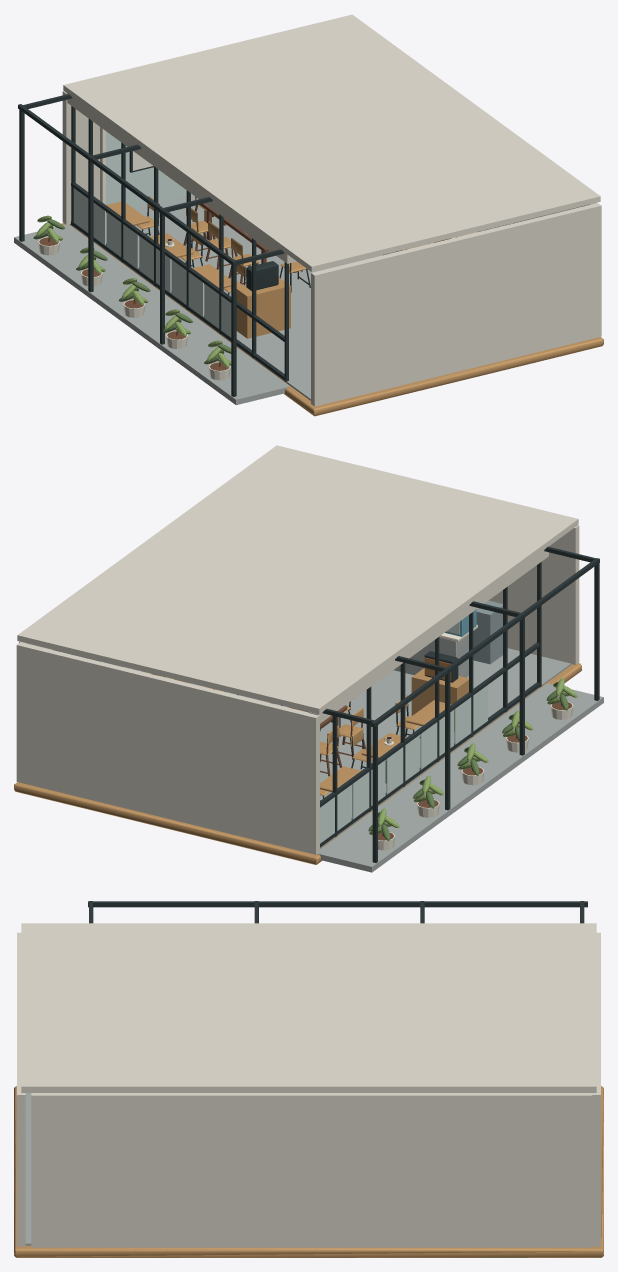
File: little-donkey.glb
The picture shows the model from 3 angles, top to bottom: view 1: azimuth 30°, elevation 25°; view 2: azimuth 150°, elevation 25°; view 3: azimuth 270°, elevation 25°; orthographic projection. The views are drawn at different scales.
Visible parts, largest first — view 1: EN_LittleDonkey_roof_Plaster_LOD0, EN_LittleDonkey_shell_Plaster_LOD0, EN_LittleDonkey_patio_Concrete_LOD0, EN_LittleDonkey_floor_Concrete_LOD0, EN_LittleDonkey_windows_Metal_LOD0, EN_LittleDonkey_patio_Metal_LOD0, EN_LittleDonkey_windows_Glass_LOD0, EN_LittleDonkey_floor_Oak_LOD0, EN_LittleDonkey_projection_Glass_LOD0, EN_LittleDonkey_windows_Plaster_LOD0, EN_LittleDonkey_main_Oak_LOD0, EN_LittleDonkey_chairs_Oak_LOD0 (+7 smaller); view 2: EN_LittleDonkey_roof_Plaster_LOD0, EN_LittleDonkey_shell_Plaster_LOD0, EN_LittleDonkey_patio_Concrete_LOD0, EN_LittleDonkey_floor_Concrete_LOD0, EN_LittleDonkey_patio_Metal_LOD0, EN_LittleDonkey_windows_Metal_LOD0, EN_LittleDonkey_windows_Glass_LOD0, EN_LittleDonkey_floor_Oak_LOD0, EN_LittleDonkey_windows_Plaster_LOD0, EN_LittleDonkey_patio_Leaf_LOD0, EN_LittleDonkey_historic_Silver_LOD0, EN_LittleDonkey_tables_Oak_LOD0 (+5 smaller); view 3: EN_LittleDonkey_roof_Plaster_LOD0, EN_LittleDonkey_shell_Plaster_LOD0, EN_LittleDonkey_floor_Oak_LOD0, EN_LittleDonkey_patio_Metal_LOD0, EN_LittleDonkey_floor_Concrete_LOD0.
Boxes of the visible parts, x1,y1,x2,y2 form: EN_LittleDonkey_roof_Plaster_LOD0: (63, 14, 600, 271); EN_LittleDonkey_shell_Plaster_LOD0: (62, 91, 601, 406); EN_LittleDonkey_patio_Concrete_LOD0: (14, 224, 290, 405); EN_LittleDonkey_floor_Concrete_LOD0: (70, 194, 433, 400); EN_LittleDonkey_windows_Metal_LOD0: (71, 106, 288, 381); EN_LittleDonkey_patio_Metal_LOD0: (18, 94, 284, 396); EN_LittleDonkey_windows_Glass_LOD0: (74, 188, 231, 337); EN_LittleDonkey_floor_Oak_LOD0: (61, 223, 603, 416); EN_LittleDonkey_projection_Glass_LOD0: (106, 131, 191, 214); EN_LittleDonkey_windows_Plaster_LOD0: (67, 93, 296, 263); EN_LittleDonkey_main_Oak_LOD0: (236, 277, 290, 338); EN_LittleDonkey_chairs_Oak_LOD0: (136, 196, 420, 292); EN_LittleDonkey_roof_Plaster_LOD0: (17, 445, 578, 714); EN_LittleDonkey_shell_Plaster_LOD0: (16, 525, 579, 854); EN_LittleDonkey_patio_Concrete_LOD0: (318, 683, 603, 872); EN_LittleDonkey_floor_Concrete_LOD0: (192, 648, 571, 848); EN_LittleDonkey_patio_Metal_LOD0: (322, 546, 599, 862); EN_LittleDonkey_windows_Metal_LOD0: (320, 562, 541, 847); EN_LittleDonkey_windows_Glass_LOD0: (320, 685, 487, 843); EN_LittleDonkey_floor_Oak_LOD0: (14, 663, 581, 864); EN_LittleDonkey_windows_Plaster_LOD0: (308, 550, 548, 723); EN_LittleDonkey_patio_Leaf_LOD0: (369, 678, 577, 834); EN_LittleDonkey_historic_Silver_LOD0: (473, 600, 502, 664); EN_LittleDonkey_tables_Oak_LOD0: (320, 700, 454, 791); EN_LittleDonkey_roof_Plaster_LOD0: (21, 923, 596, 1092); EN_LittleDonkey_shell_Plaster_LOD0: (17, 932, 600, 1247); EN_LittleDonkey_floor_Oak_LOD0: (14, 1086, 603, 1257); EN_LittleDonkey_patio_Metal_LOD0: (88, 901, 587, 923); EN_LittleDonkey_floor_Concrete_LOD0: (25, 1093, 31, 1245).
Bounding box in the file's own units: 7.87 × 3.26 × 10.15.
